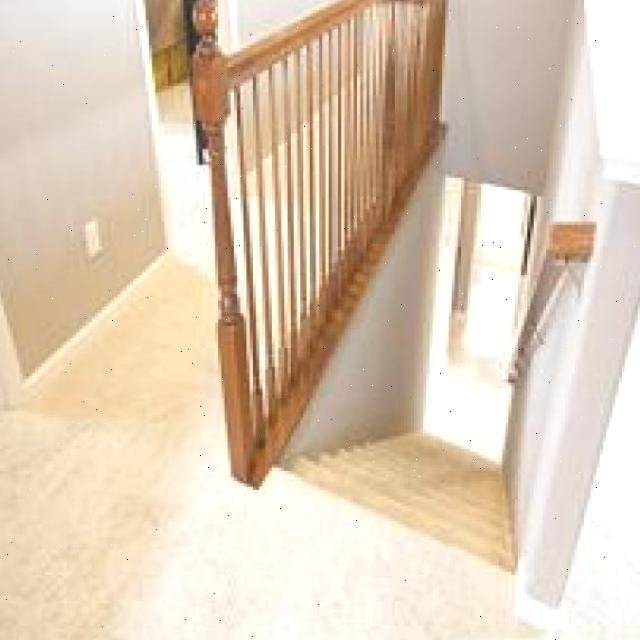stair: (269, 351, 525, 591)
